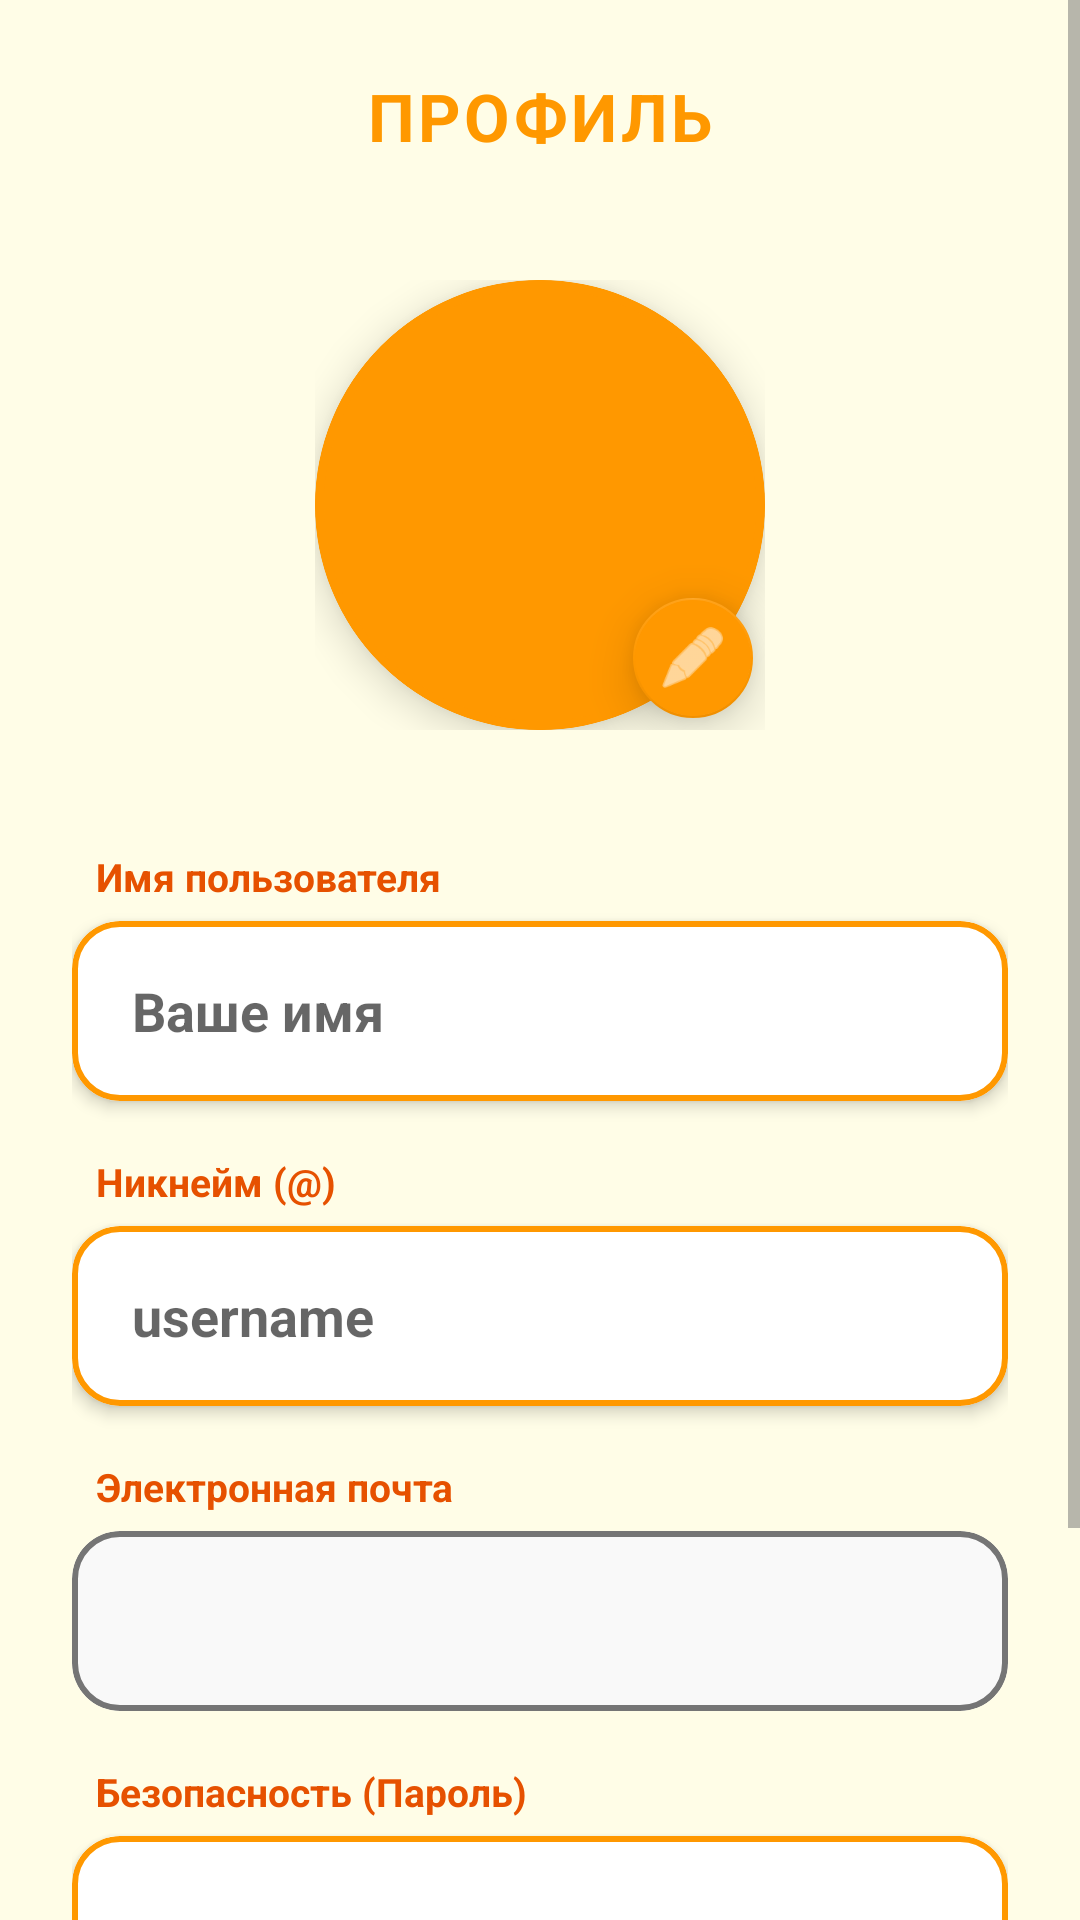

Icons on this 1080 x 1920 Android screen, each with the point to tap as (x,y):
edit: (693,658)
